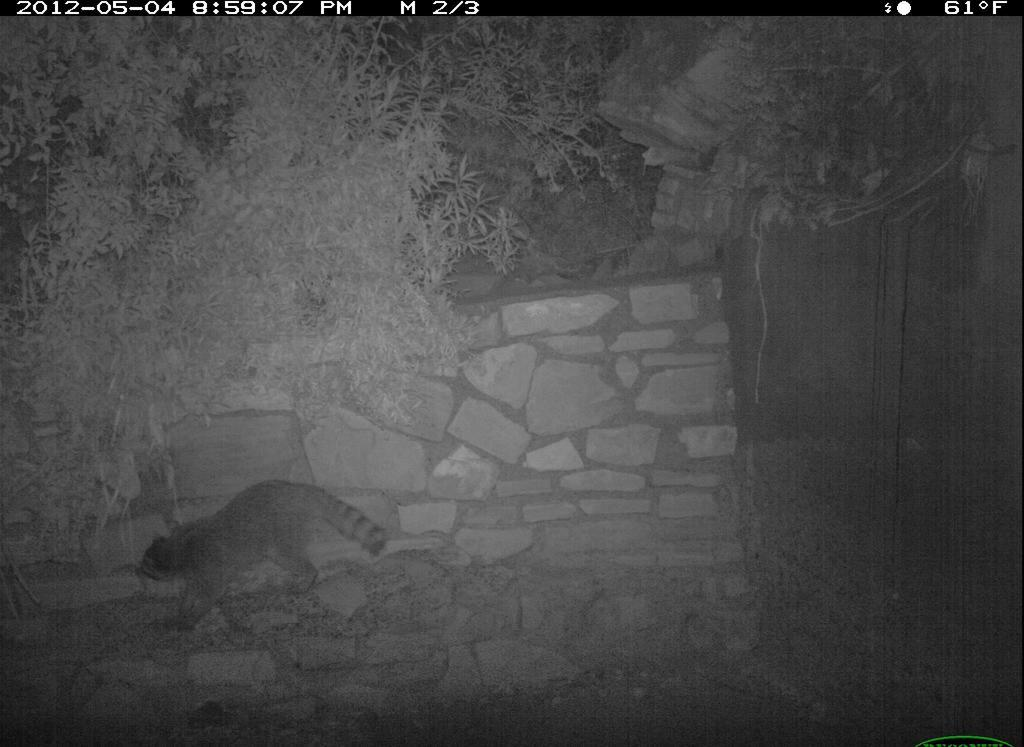raccoon: (125, 470, 400, 643)
